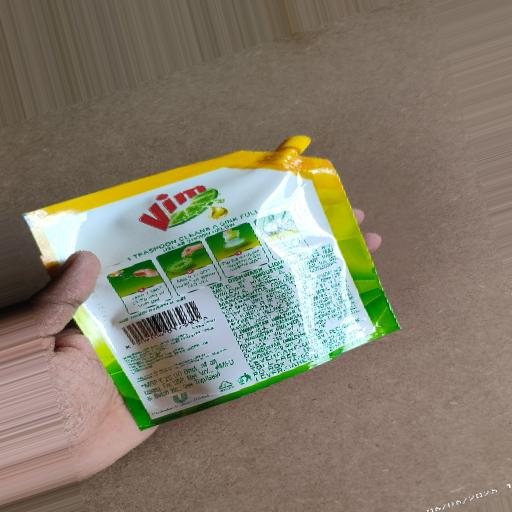VIM Dishwash liquid: (6, 111, 403, 447)
